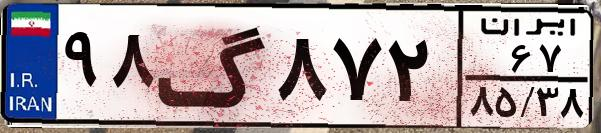2: (385, 28, 445, 110)
3: (535, 70, 560, 125)
5: (495, 70, 520, 125)
6: (508, 27, 537, 80)
7: (330, 28, 385, 110), (537, 27, 568, 80)
8: (270, 28, 330, 110), (110, 28, 156, 98), (560, 70, 590, 125), (470, 70, 495, 125)
9: (57, 26, 110, 100)
گ: (156, 12, 270, 120)
